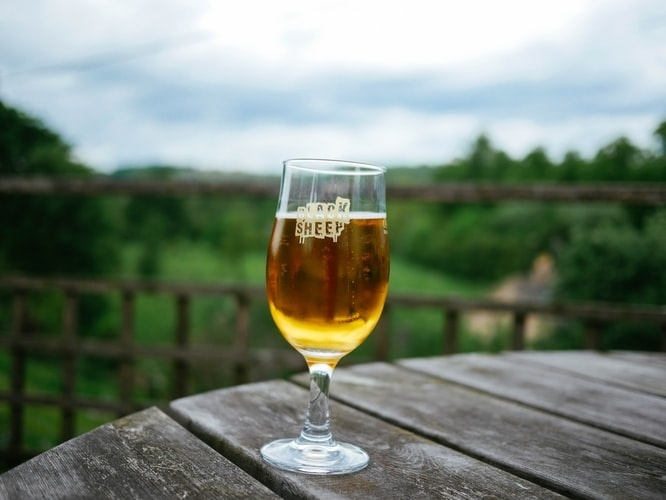whiskey: (247, 155, 400, 459)
